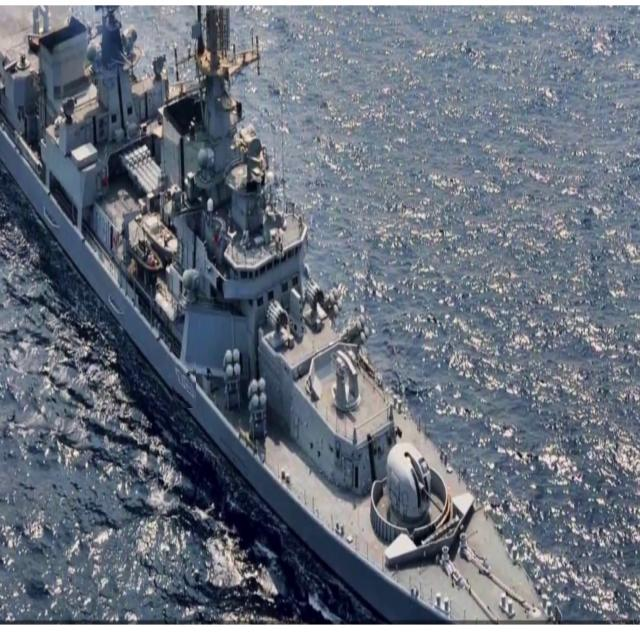OCR: (169, 361, 196, 409)
